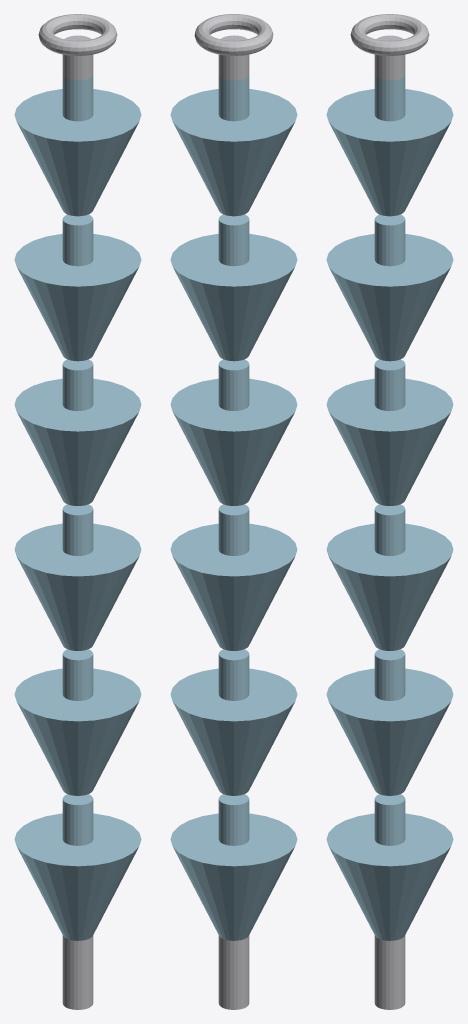
The model's file is Cadena_847mm.fbx.
3 views of the same model, side by side, from view 1: azimuth 90°, elevation 25°; view 2: azimuth 150°, elevation 25°; view 3: azimuth 270°, elevation 25° (orthographic).
Parts seen in each view (by area): view 1: Cadena_847mm; view 2: Cadena_847mm; view 3: Cadena_847mm.
Boxes of the visible parts, x1,y1,x2,y2 form: Cadena_847mm: [14, 14, 141, 1009]; Cadena_847mm: [170, 14, 297, 1009]; Cadena_847mm: [326, 14, 453, 1009].
Bounding box in the file's own units: 10 × 84.7 × 10.
